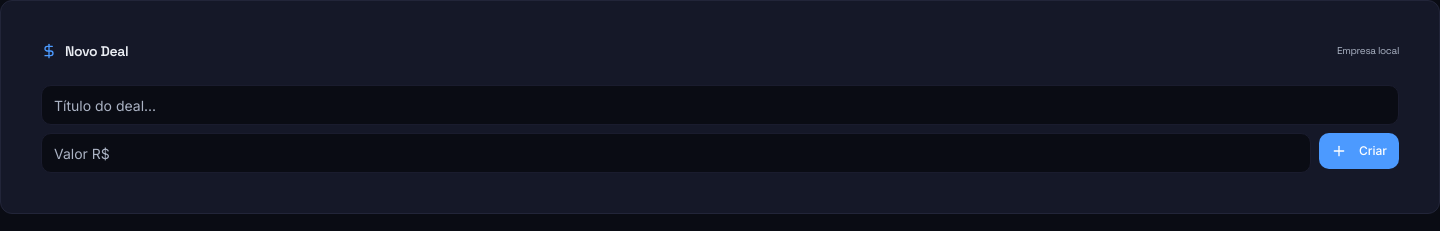
Test: Criação de oportunidade com o contrato da RPC › envia título e valor 149.75 com os nomes canônicos
In the field with placeholder "Título do deal...": (720, 105) [41,85,1399,125], type "  Proposta de brindes  "
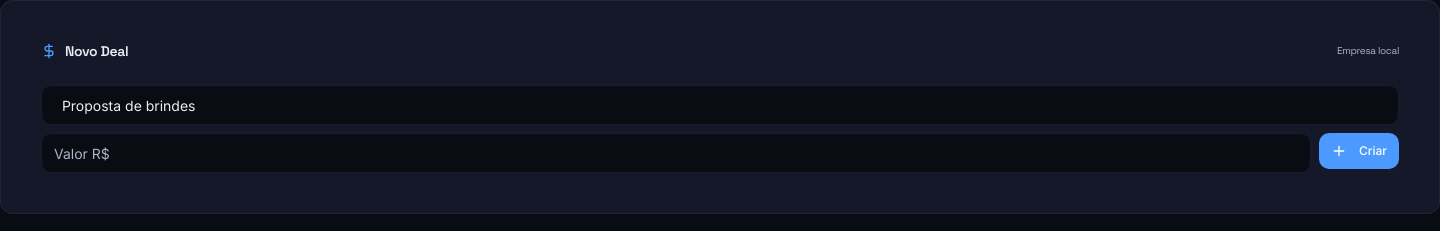
In the number field with placeholder "Valor R$": (676, 153) [41,133,1311,173], type "149.75"
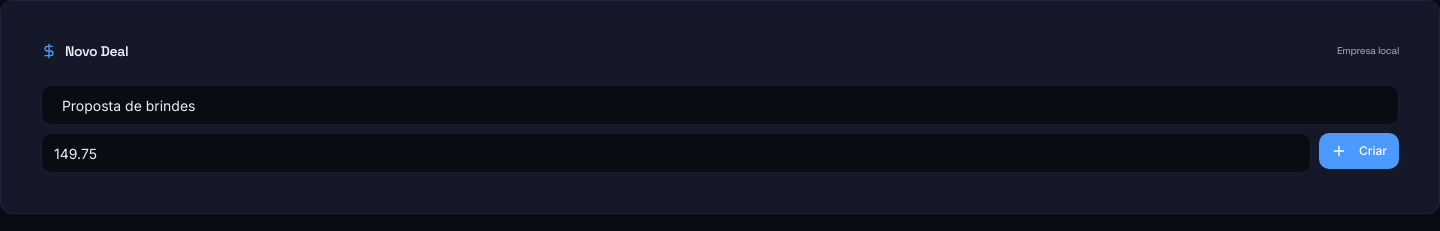
Click the button "Criar": click(1359, 151) [1319,133,1399,169]
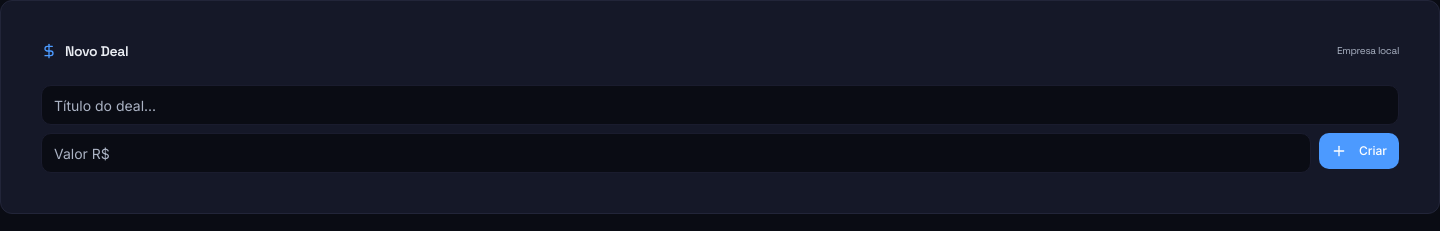
expect the field with placeholder "Título do deal..." is empty: met, box [41,85,1399,125]
expect the number field with placeholder "Valor R$" is not empty: met, box [41,133,1311,173]
